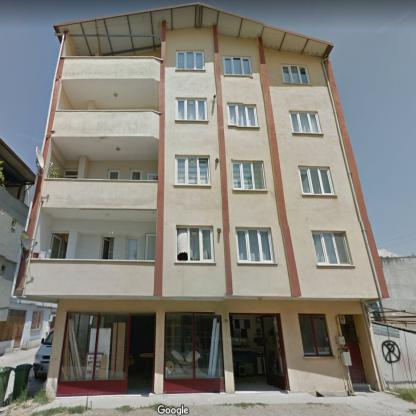door: (230, 314, 288, 390), (127, 312, 156, 394), (340, 315, 366, 384), (48, 232, 69, 258), (14, 324, 24, 348), (50, 317, 55, 332), (147, 174, 157, 180)
window: (58, 312, 130, 382), (164, 313, 224, 383), (299, 314, 331, 356), (176, 226, 212, 262), (312, 232, 350, 264), (237, 229, 273, 262), (175, 157, 209, 184), (232, 162, 265, 189), (299, 168, 333, 194), (228, 104, 257, 127), (290, 112, 321, 133), (176, 99, 207, 120), (281, 64, 310, 84), (176, 51, 205, 69), (224, 57, 251, 75), (125, 236, 140, 260), (100, 236, 115, 259), (146, 233, 156, 260), (32, 312, 42, 330), (9, 309, 26, 317), (130, 170, 142, 180), (108, 170, 120, 179), (65, 170, 77, 178), (12, 219, 16, 228)
